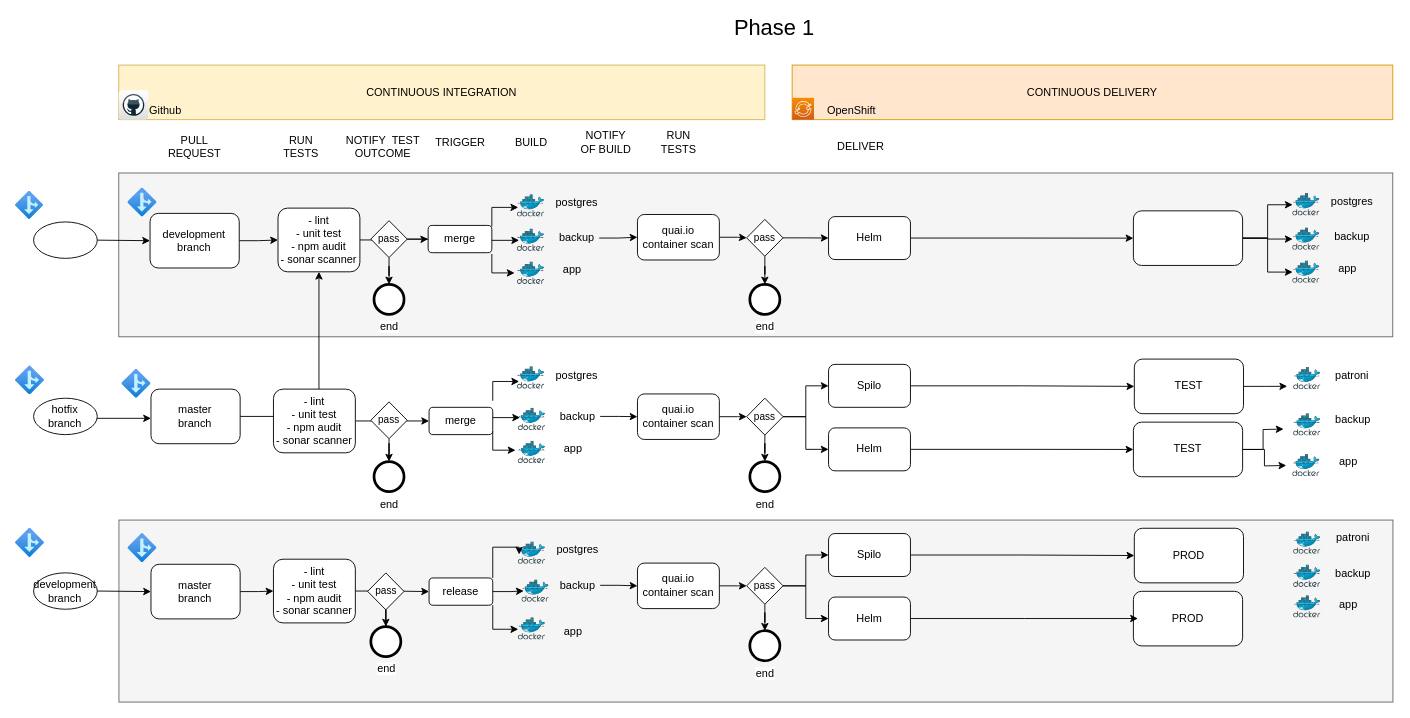
The diagram is 1410 pixels wide and 718 high, and some of its shapes have lost their labels. Here are the shapes that lost their labels. From the top down, the centre of each, then its label:
the point at 65,239: feature branch
the point at 1187,237: DEV
